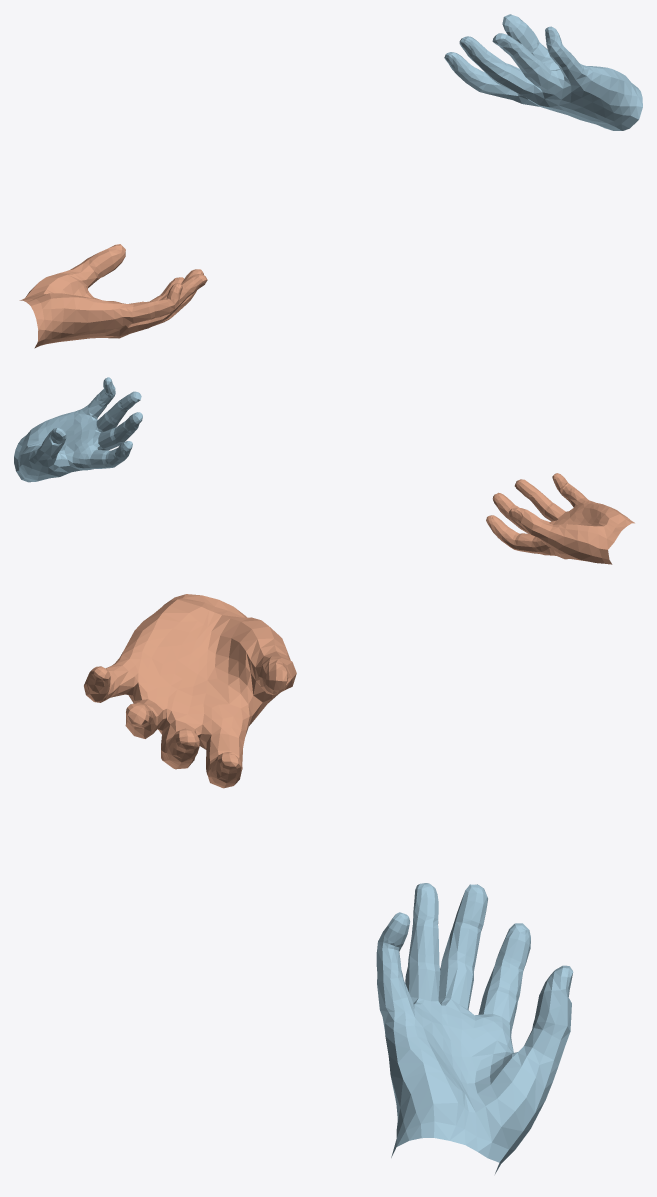
The model's file is frame_006.glb.
3 renders of one model, top to bottom at view 1: azimuth 30°, elevation 25°; view 2: azimuth 150°, elevation 25°; view 3: azimuth 270°, elevation 25°, orthographic. The views are drawn at different scales.
Visible parts, largest first — view 1: world; view 2: world; view 3: world.
Boxes of the visible parts, x1=… form: world: x1=19, y1=14, x2=642, y2=348; world: x1=14, y1=377, x2=634, y2=564; world: x1=84, y1=594, x2=573, y2=1173.
Bounding box in the file's own units: 0.6361 × 0.126 × 0.2446.
